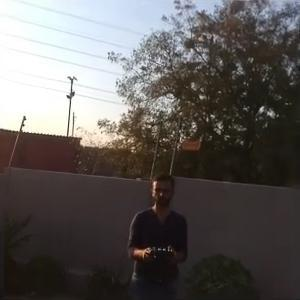follow: (122, 164, 191, 298)
